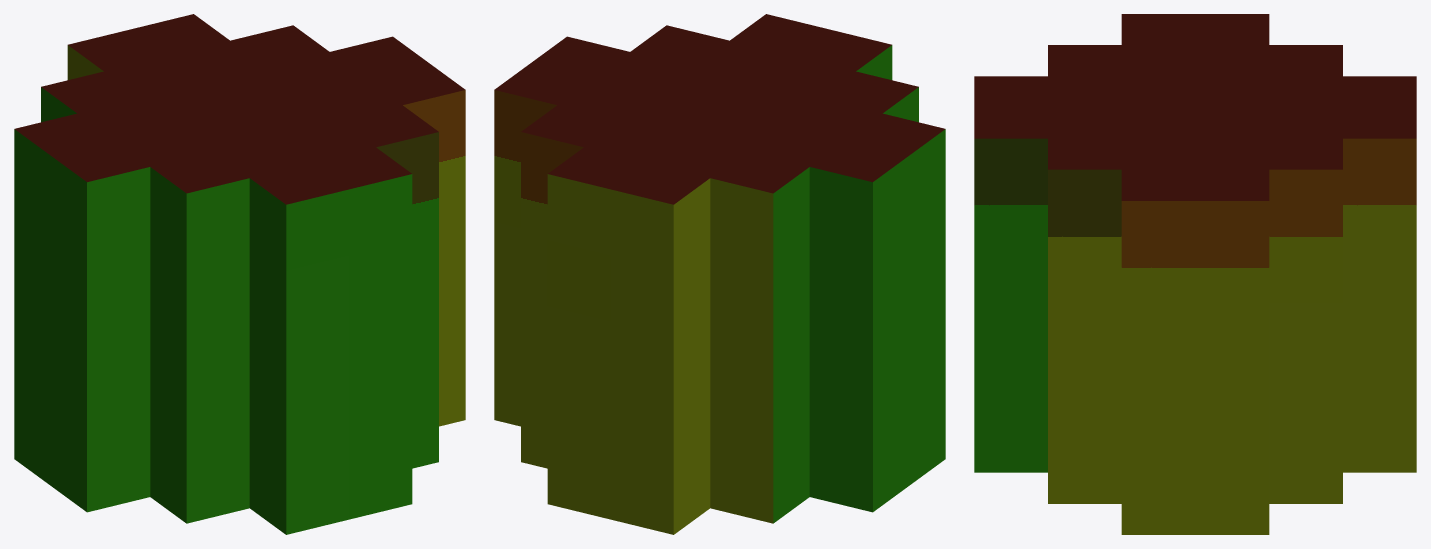
File: block_17.fbx
The picture shows the model from 3 angles, left to right: view 1: azimuth 30°, elevation 25°; view 2: azimuth 150°, elevation 25°; view 3: azimuth 270°, elevation 25°; orthographic projection.
Parts seen in each view (by area): view 1: box.002; view 2: box.002; view 3: box.002.
Boxes of the visible parts, left/top/right/bottom form: box.002: left=14, top=14, right=465, bottom=534; box.002: left=494, top=14, right=945, bottom=534; box.002: left=974, top=14, right=1416, bottom=534.
Bounding box in the file's own units: 6000 × 5000 × 6000.
